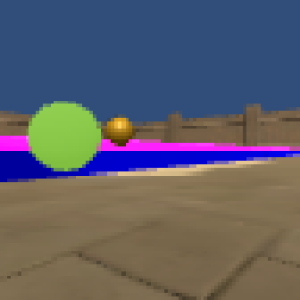goodGoal: (23, 98, 100, 173)
goodGoalMulti: (104, 116, 135, 148)
platform: (100, 152, 300, 174), (1, 151, 21, 182)
ramp: (101, 142, 288, 151), (1, 135, 21, 151)
